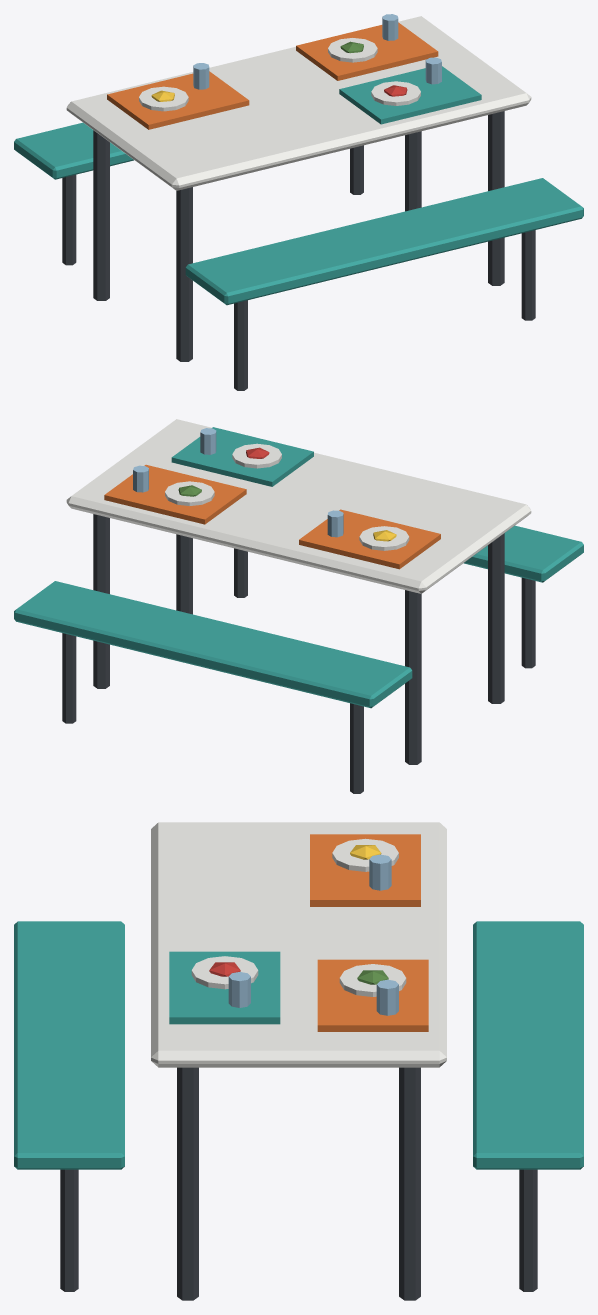
File: canteen_table.glb
3 renders of one model, top to bottom at view 1: azimuth 30°, elevation 25°; view 2: azimuth 150°, elevation 25°; view 3: azimuth 270°, elevation 25°, orthographic. The views are drawn at different scales.
Parts seen in each view (by area): view 1: canteen_table_mesh; view 2: canteen_table_mesh; view 3: canteen_table_mesh.
Boxes of the visible parts, left/top/right/bottom form: canteen_table_mesh: left=14, top=14, right=583, bottom=390; canteen_table_mesh: left=14, top=419, right=583, bottom=793; canteen_table_mesh: left=14, top=822, right=583, bottom=1300.
Size of the model in its own units: 1.5 by 0.87 by 1.54.
